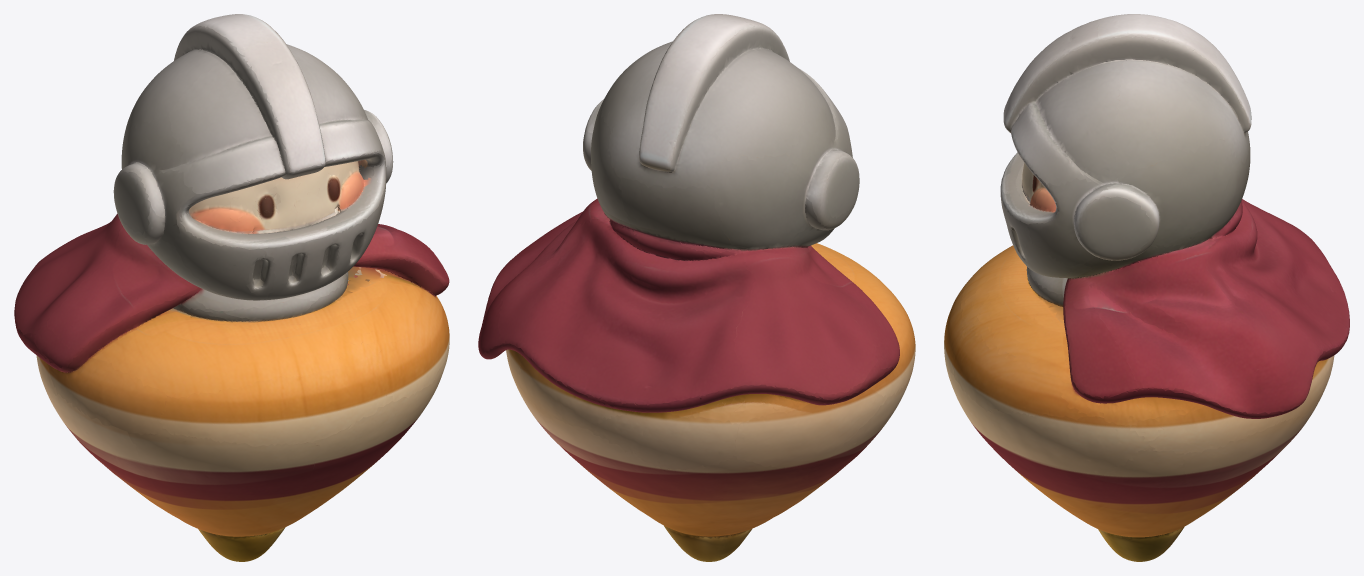
The picture shows the model from 3 angles, left to right: view 1: azimuth 30°, elevation 25°; view 2: azimuth 150°, elevation 25°; view 3: azimuth 270°, elevation 25°; orthographic projection.
Parts seen in each view (by area): view 1: geometry_0; view 2: geometry_0; view 3: geometry_0.
Part boxes in pixels (x1=…): geometry_0: x1=14, y1=14, x2=449, y2=561; geometry_0: x1=478, y1=14, x2=915, y2=561; geometry_0: x1=944, y1=14, x2=1349, y2=561.
Size of the model in its own units: 0.063 by 0.085 by 0.0581.
1 material, 1 textured.
